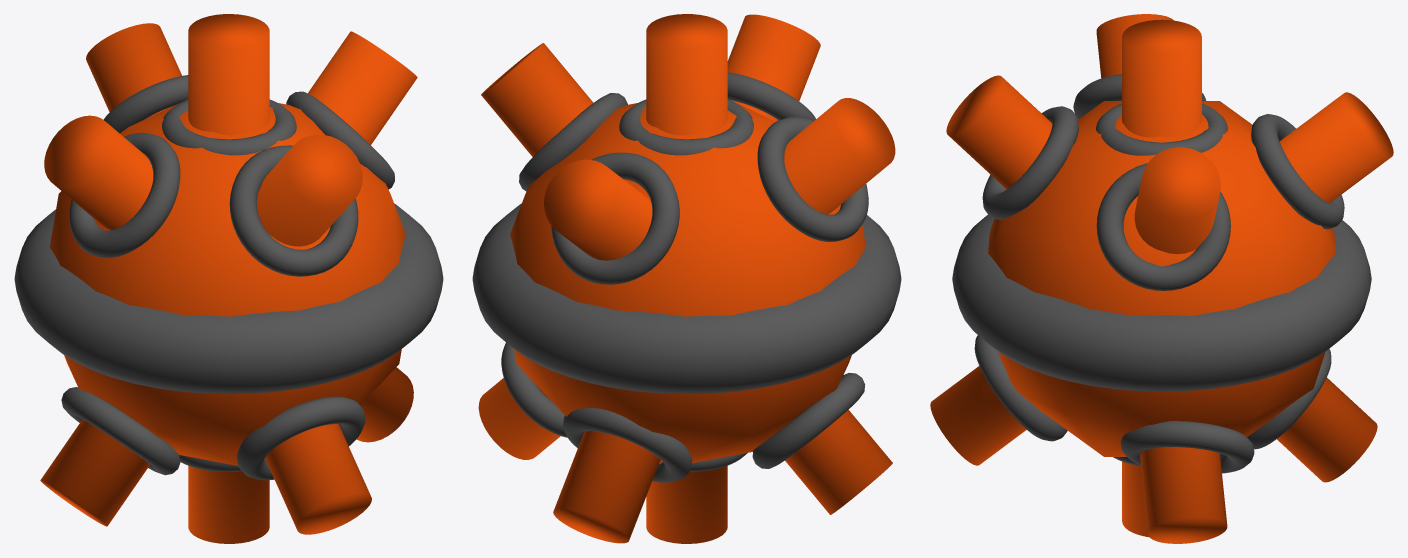
Rendered from Bomb.gltf.
The picture shows the model from 3 angles, left to right: view 1: azimuth 30°, elevation 25°; view 2: azimuth 150°, elevation 25°; view 3: azimuth 270°, elevation 25°; orthographic projection. The views are drawn at different scales.
Parts seen in each view (by area): view 1: ICO球, トーラス.002; view 2: ICO球, トーラス.002; view 3: ICO球, トーラス.002.
Part boxes in pixels (x1,y1,x2,y2): ICO球: (40,14,417,543); トーラス.002: (14,75,443,480); ICO球: (478,14,895,543); トーラス.002: (472,72,901,482); ICO球: (930,14,1393,543); トーラス.002: (952,74,1371,473).
Bounding box in the file's own units: 2.29 × 2.86 × 2.47.
